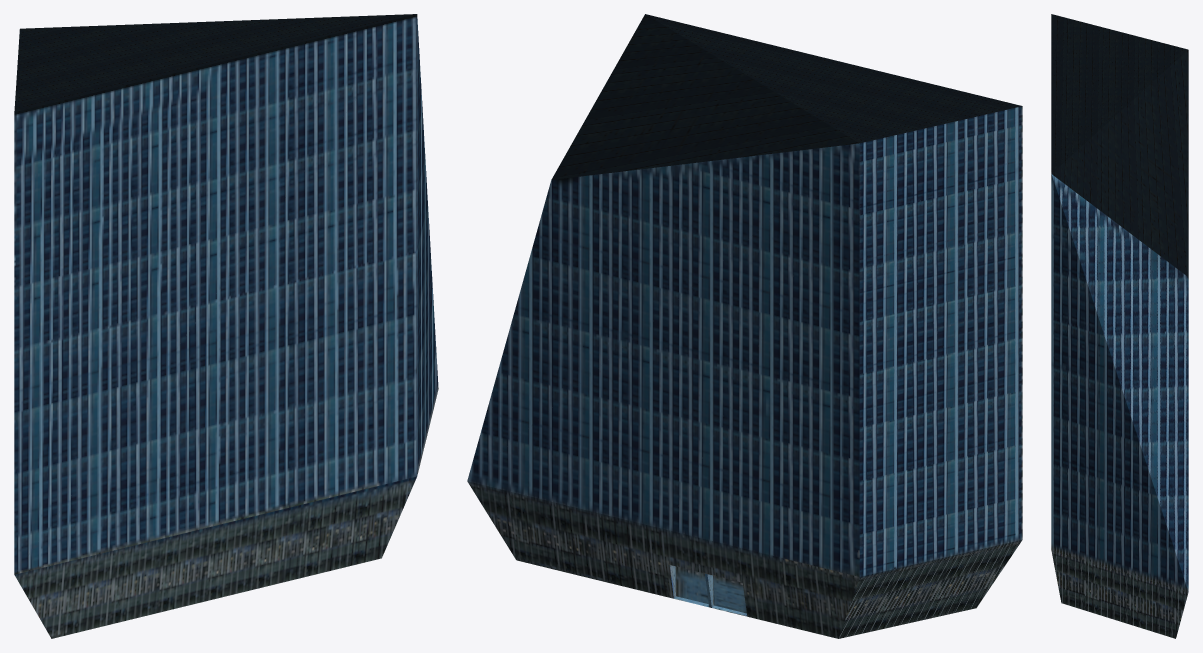
File: 240 Blackfriar's road (Tex).glb
3 renders of one model, left to right at view 1: azimuth 30°, elevation 25°; view 2: azimuth 150°, elevation 25°; view 3: azimuth 270°, elevation 25°, orthographic. The views are drawn at different scales.
Parts seen in each view (by area): view 1: Building; view 2: Building; view 3: Building.
Boxes of the visible parts, x1=… form: Building: x1=14, y1=14, x2=438, y2=638; Building: x1=467, y1=14, x2=1022, y2=638; Building: x1=1051, y1=14, x2=1188, y2=638.
Size of the model in its own units: 83.97 by 85.5 by 24.1.
Materials: 1 (1 with a texture image).
